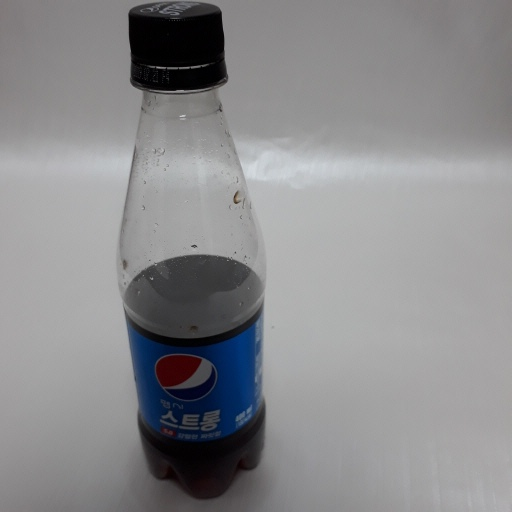Plastic_0: (113, 1, 270, 500)
